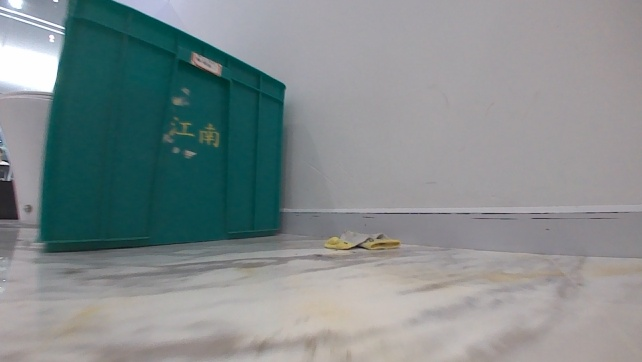socks: (324, 229, 403, 253)
toilet: (0, 86, 52, 226)
